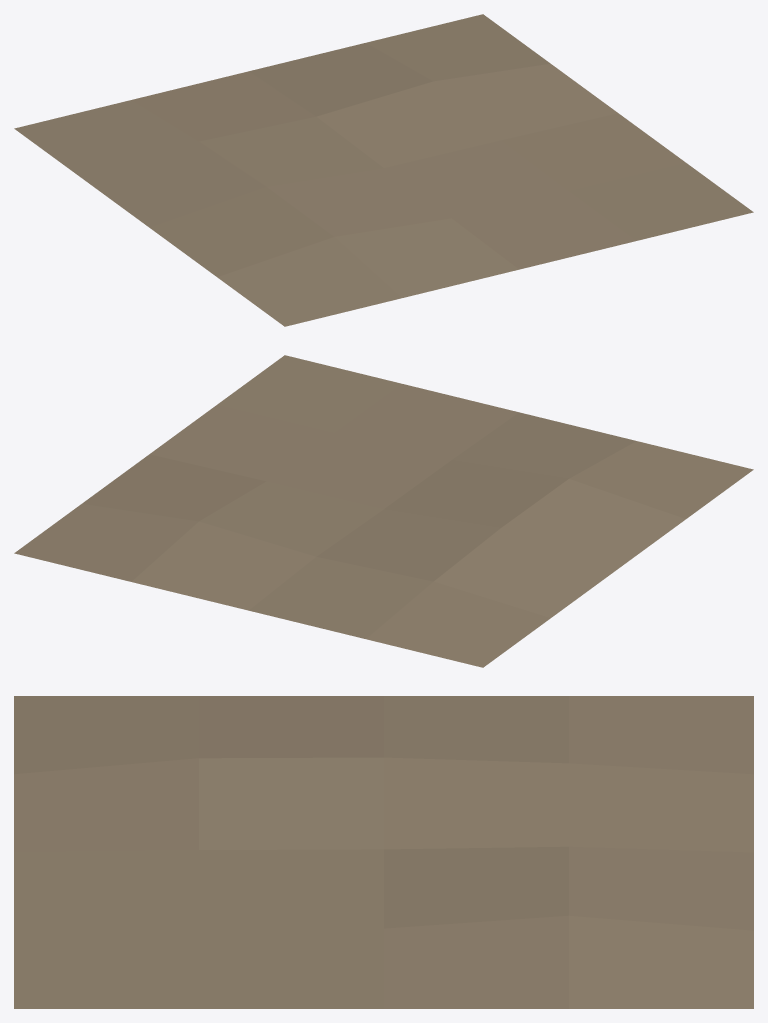
File: Tile_12_Mud_Puddle.glb
3 views of the same model, one above another, from view 1: azimuth 30°, elevation 25°; view 2: azimuth 150°, elevation 25°; view 3: azimuth 270°, elevation 25° (orthographic). The views are drawn at different scales.
Parts seen in each view (by area): view 1: Tile_Mud_Puddle; view 2: Tile_Mud_Puddle; view 3: Tile_Mud_Puddle.
Part boxes in pixels (x1=…): Tile_Mud_Puddle: x1=14, y1=14, x2=753, y2=326; Tile_Mud_Puddle: x1=14, y1=355, x2=753, y2=667; Tile_Mud_Puddle: x1=14, y1=696, x2=753, y2=1008.
Size of the model in its own units: 0.2 by 0.0105 by 0.2.
